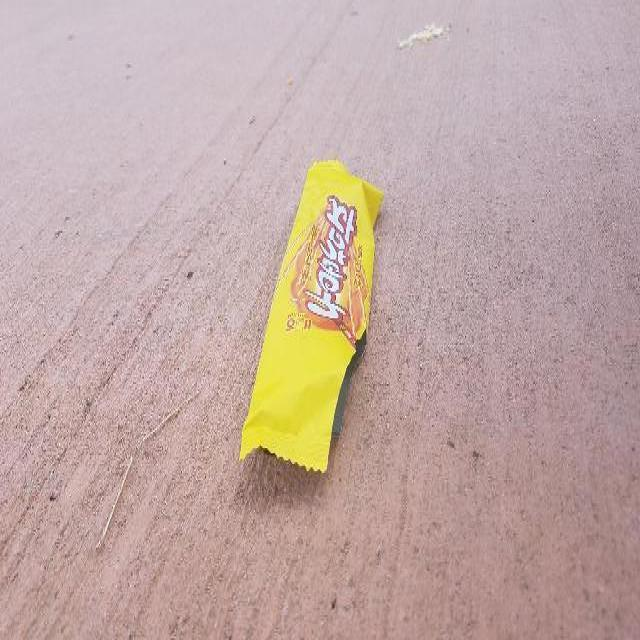plastic bag: (236, 152, 388, 476)
